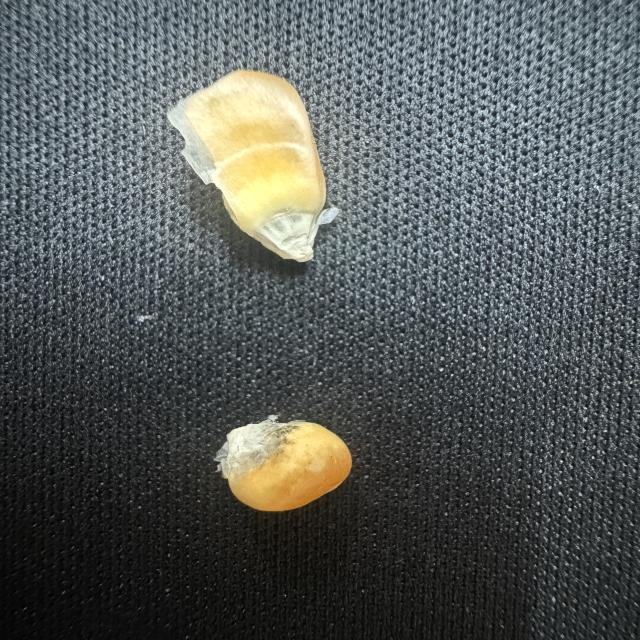Bad-Seed: (153, 62, 348, 281), (199, 406, 365, 520)
